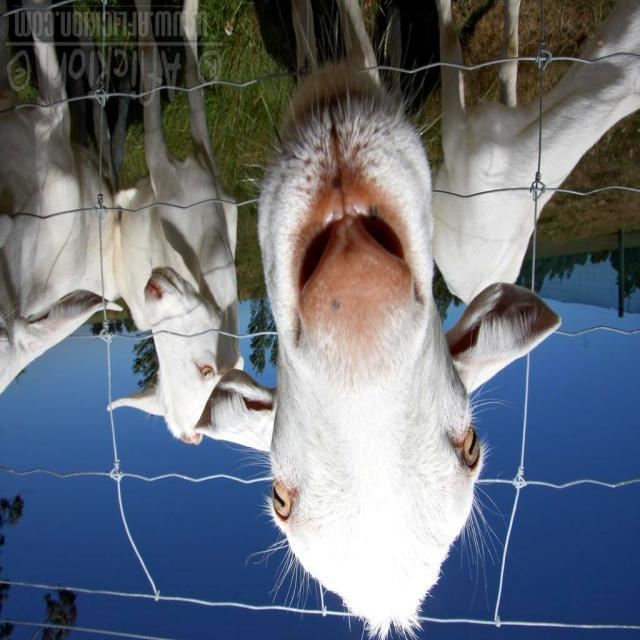Goat: (198, 2, 564, 640), (104, 2, 277, 450), (430, 2, 640, 310), (1, 2, 128, 397)
